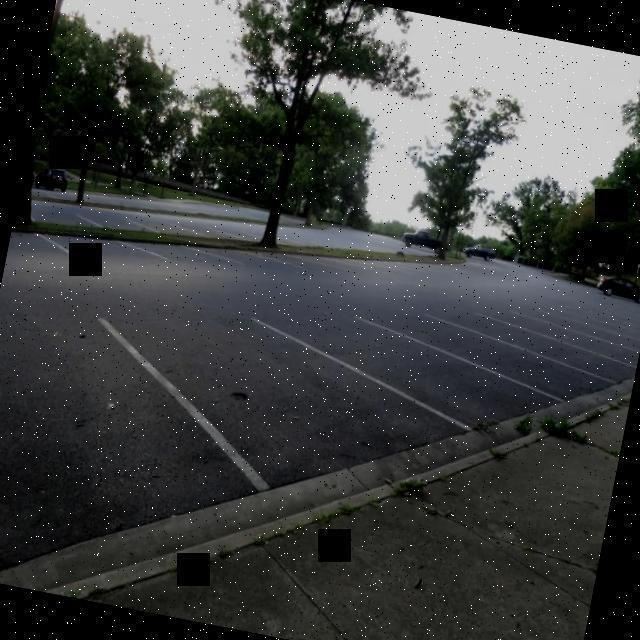Vacant: (104, 316, 478, 497), (0, 314, 269, 564), (250, 317, 574, 435), (357, 313, 623, 407), (424, 310, 637, 386), (471, 310, 640, 371), (37, 233, 170, 260), (116, 242, 248, 266), (180, 246, 308, 270), (229, 248, 357, 272), (8, 230, 76, 253)
